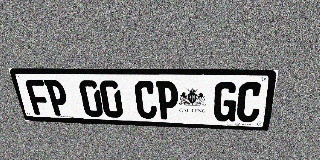0: (78, 80, 104, 117), (98, 80, 123, 118)
C: (235, 82, 264, 123), (134, 81, 157, 119)
F: (24, 79, 52, 115)
G: (213, 82, 239, 122)
P: (43, 80, 71, 116), (156, 81, 178, 120)
